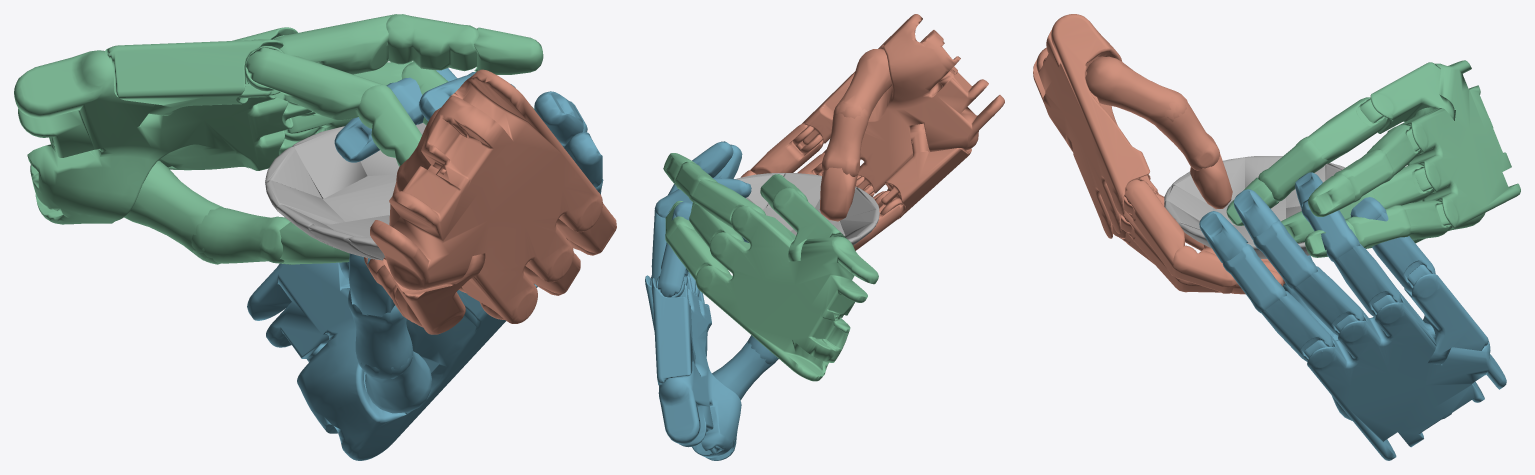
3 renders of one model, left to right at view 1: azimuth 30°, elevation 25°; view 2: azimuth 150°, elevation 25°; view 3: azimuth 270°, elevation 25°, orthographic. The views are drawn at different scales.
Bounding box in the file's own units: 0.1996 × 0.2437 × 0.2631.
